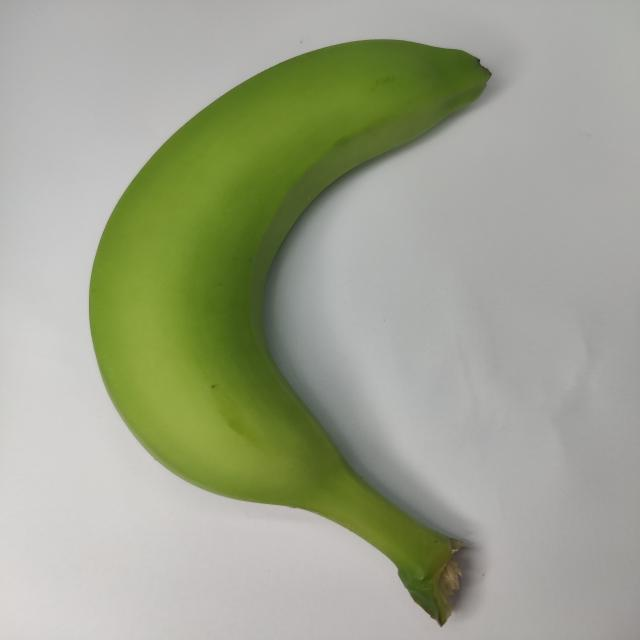raw: (42, 30, 579, 640)
